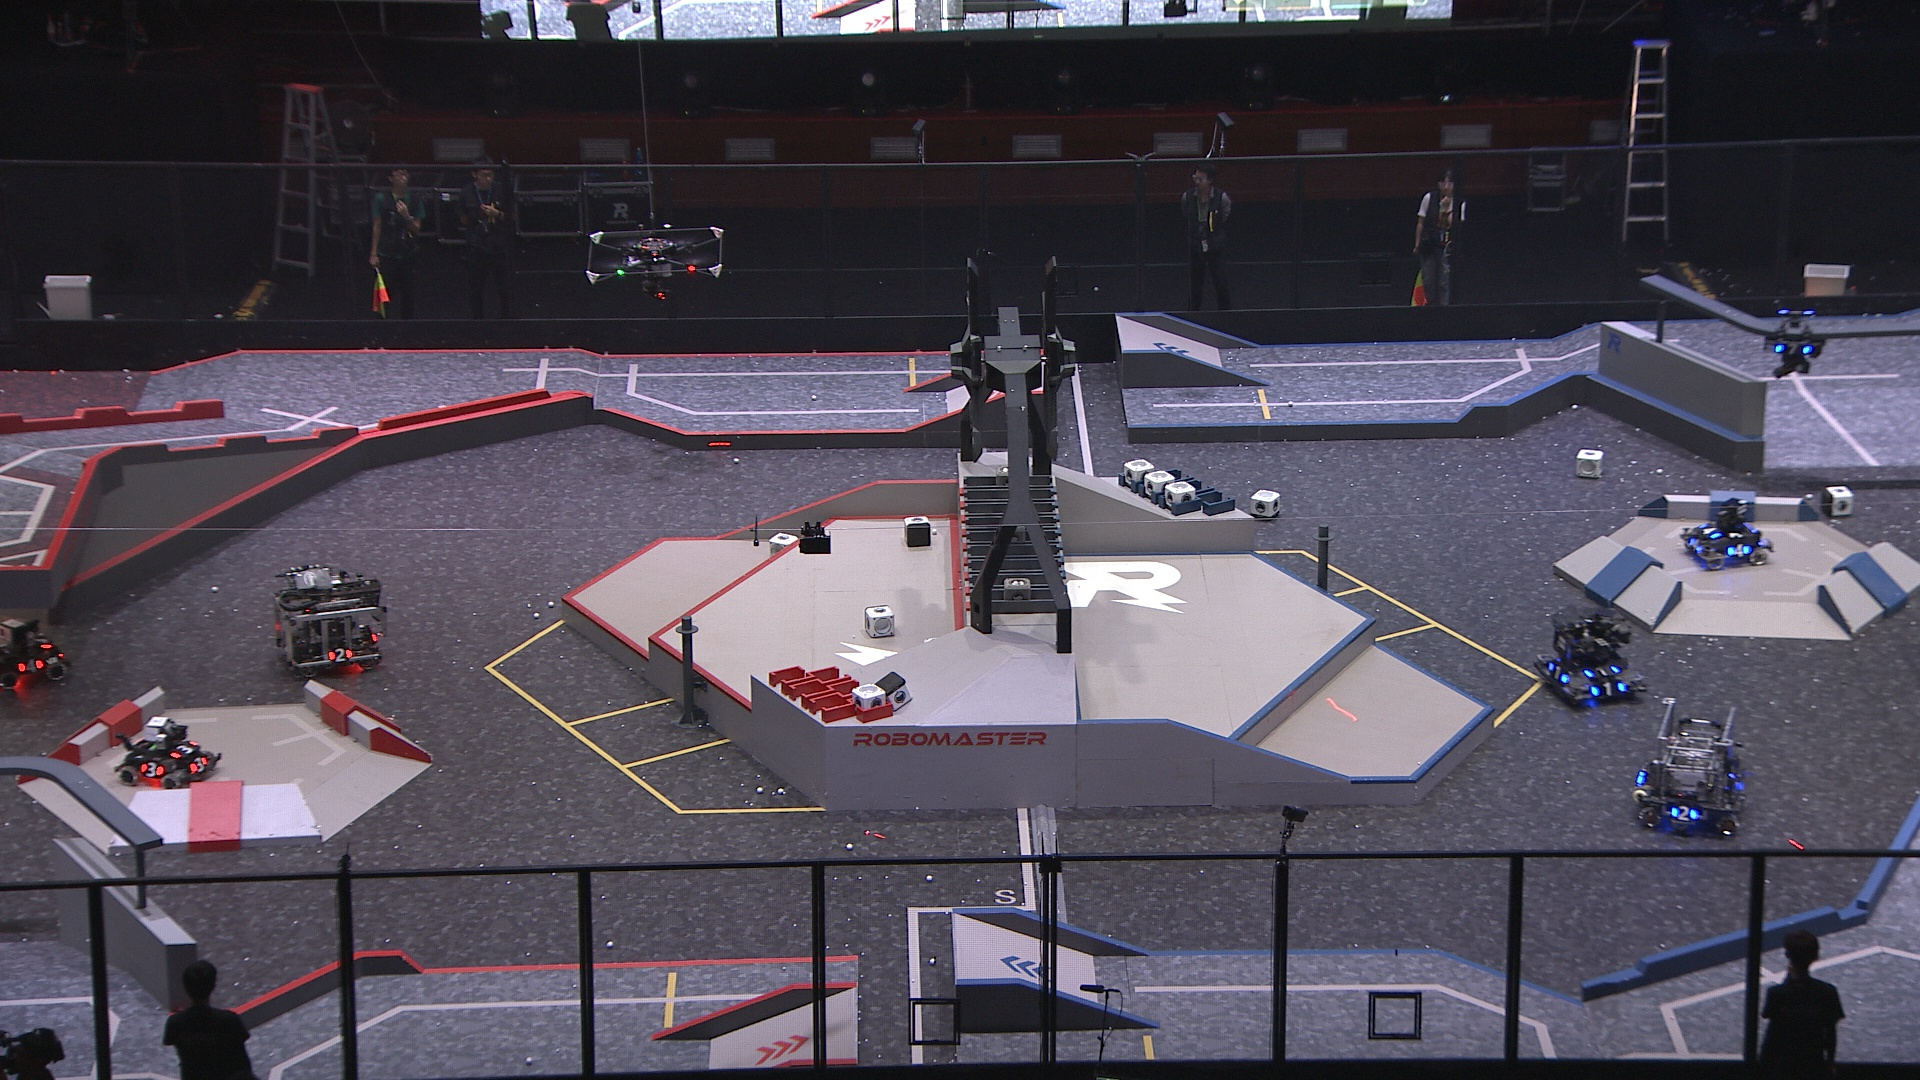armor: (1770, 338, 1811, 361), (167, 737, 200, 760), (1592, 680, 1629, 699), (16, 655, 46, 678), (1584, 659, 1619, 678), (1548, 659, 1572, 687), (1724, 537, 1753, 559), (138, 761, 167, 779), (1669, 804, 1698, 823), (327, 645, 353, 665), (32, 629, 54, 651), (189, 756, 211, 777), (1695, 522, 1720, 541), (1685, 534, 1702, 555)
car: (1634, 698, 1750, 840), (266, 560, 390, 683), (1532, 604, 1648, 708), (113, 709, 222, 793), (1681, 493, 1771, 571)
watcher: (1764, 305, 1828, 376)
